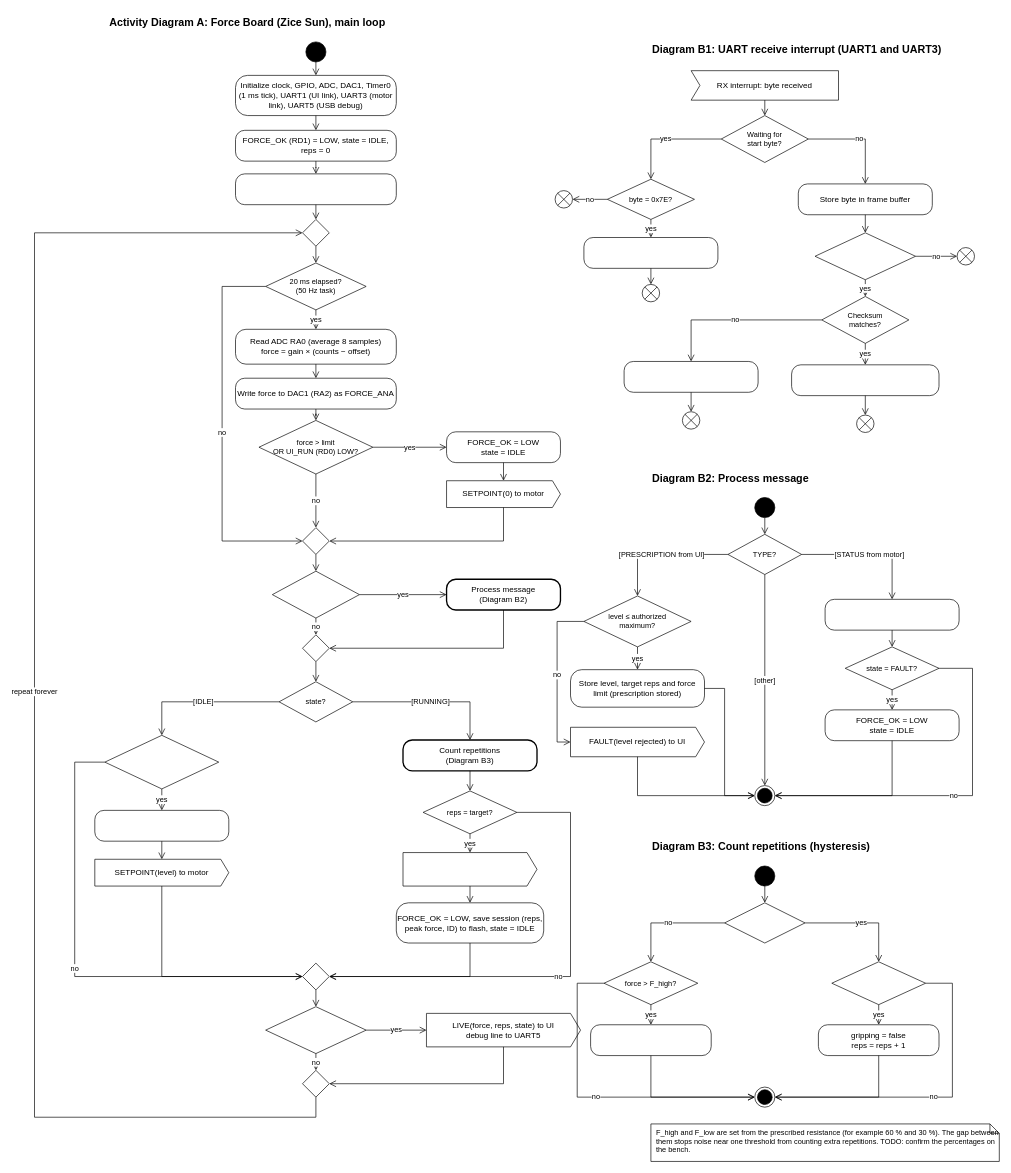
Some shapes in this 1011 by 1173 pixel diagram are drawn without their labels. The box of each missing label's shape, as (x1, y1, x2, y2) in pixels:
200 ms elapsed? (5 Hz task): (265, 1006, 366, 1054)
Discard frame (ignore corrupted data): (623, 361, 758, 392)
force < F_low?: (831, 961, 926, 1005)
Frame complete? (LEN + 4 bytes): (814, 232, 916, 280)
gripping = true peak = force: (590, 1024, 711, 1056)
gripping?: (724, 902, 805, 943)
reps = 0, FORCE_OK = HIGH state = RUNNING: (94, 810, 229, 841)
Set frame_ready flag for the main loop: (791, 364, 939, 396)
SET_DONE to UI SETPOINT(0) to motor: (402, 852, 537, 886)
Start new frame (index = 0): (583, 237, 718, 268)
Store motor state: (824, 599, 959, 630)
Tare: average 64 ADC samples with no load and store as offset: (235, 173, 396, 205)
UART frame ready?: (272, 571, 359, 618)
UI_RUN HIGH and prescription stored?: (104, 735, 219, 789)
